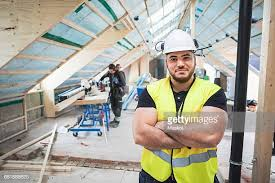hard hat: (162, 29, 197, 56)
high-vis: (140, 74, 223, 183)
